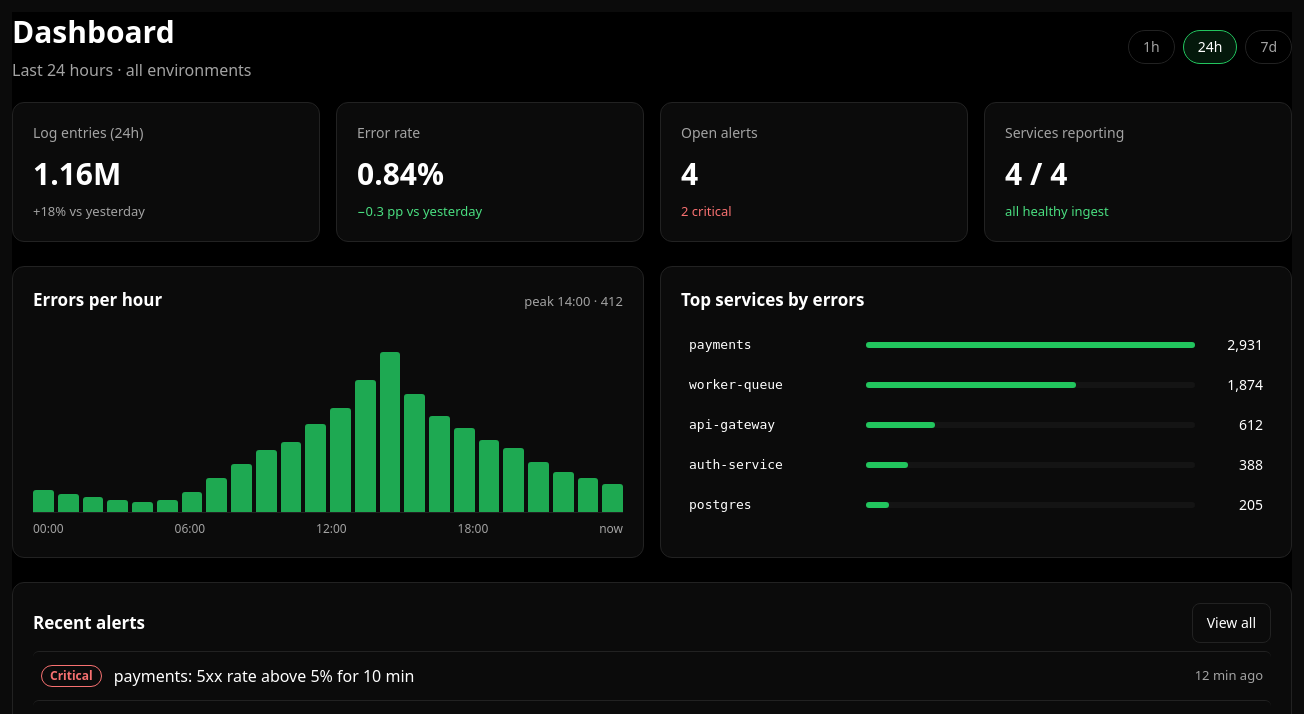
Test: DashboardPage › switches the data when another range is picked
Click the button "7d": point(1269, 47) [1245,30,1292,64]
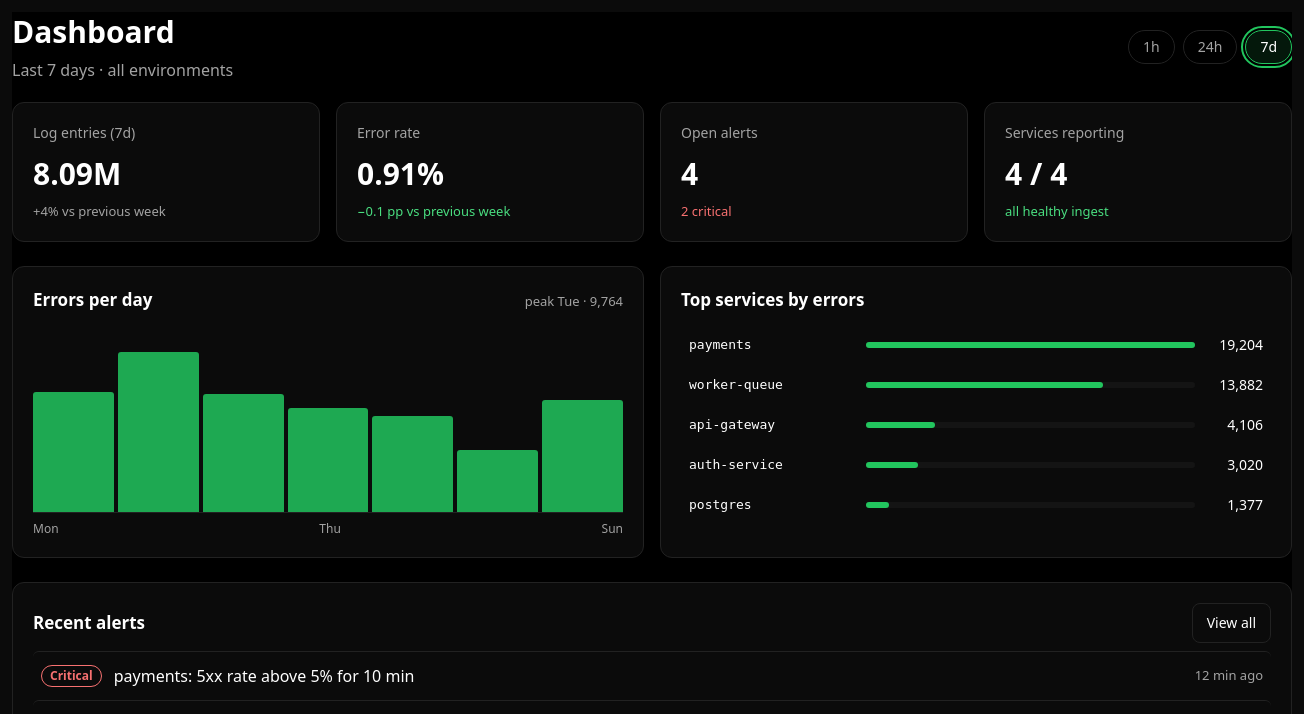
Expected: the text "Last 7 days · all environments" is shown, [12,58,233,82]
Expected: the text "8.09M" is shown, [33,153,121,194]
Expected: the text "1.16M" is gone
